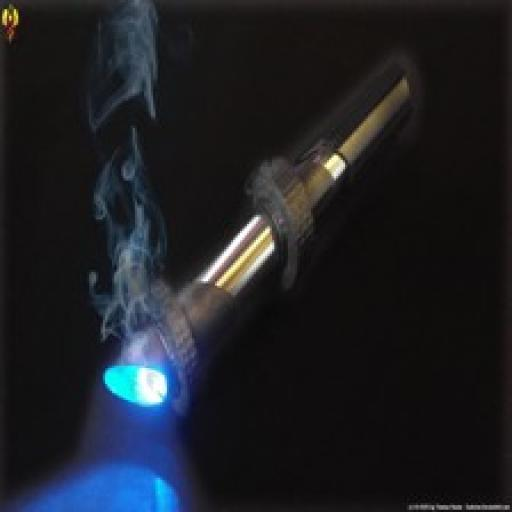lightsaber: (88, 47, 434, 431)
